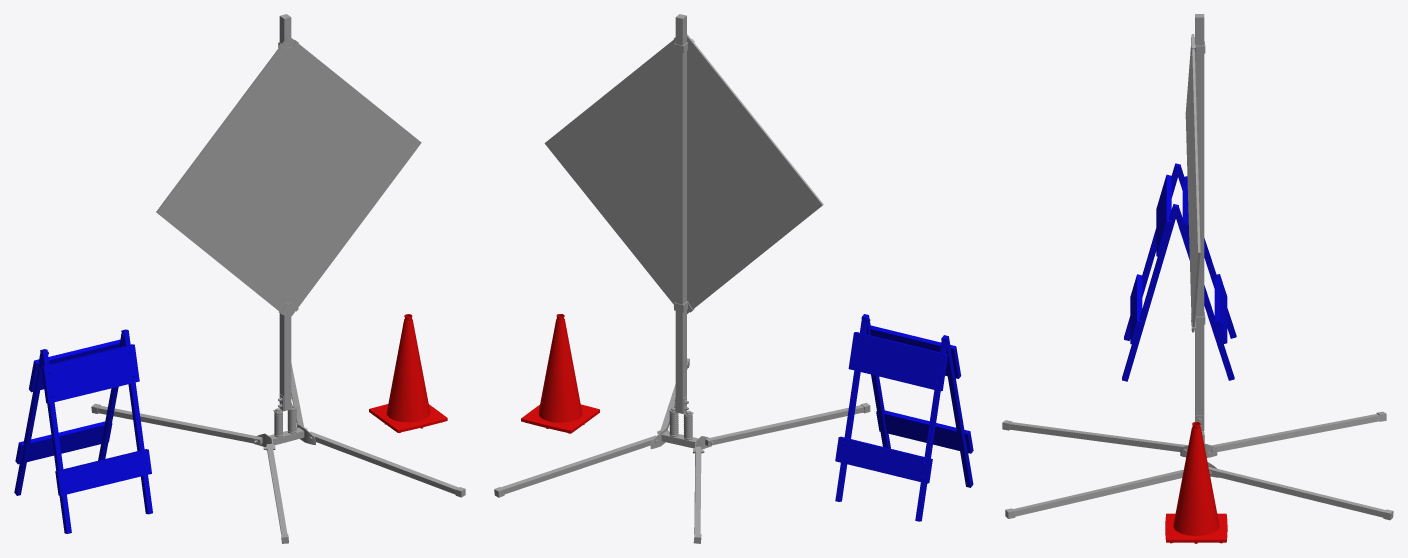
Rendered from ContructionProps.fbx.
3 views of the same model, side by side, from view 1: azimuth 30°, elevation 25°; view 2: azimuth 150°, elevation 25°; view 3: azimuth 270°, elevation 25° (orthographic). The views are drawn at different scales.
Parts seen in each view (by area): view 1: polySurface45, FoldingBarricade:pSphere13, Traffic_Cone:polySurface9; view 2: polySurface45, FoldingBarricade:pSphere13, Traffic_Cone:polySurface9; view 3: polySurface45, FoldingBarricade:pSphere13, Traffic_Cone:polySurface9.
Boxes of the visible parts, x1,y1,x2,y2 form: polySurface45: (91,14,465,543); FoldingBarricade:pSphere13: (14,329,152,533); Traffic_Cone:polySurface9: (369,314,447,432); polySurface45: (494,14,870,543); FoldingBarricade:pSphere13: (835,314,973,521); Traffic_Cone:polySurface9: (521,314,599,433); polySurface45: (1002,14,1393,520); FoldingBarricade:pSphere13: (1122,163,1236,381); Traffic_Cone:polySurface9: (1165,422,1227,543).
Bounding box in the file's own units: 257 × 266 × 205.
